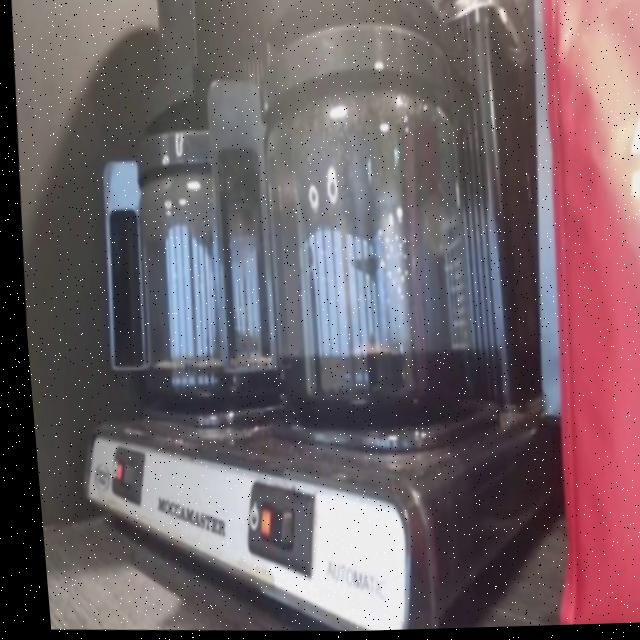coffee: (231, 3, 497, 451), (108, 98, 282, 424)
